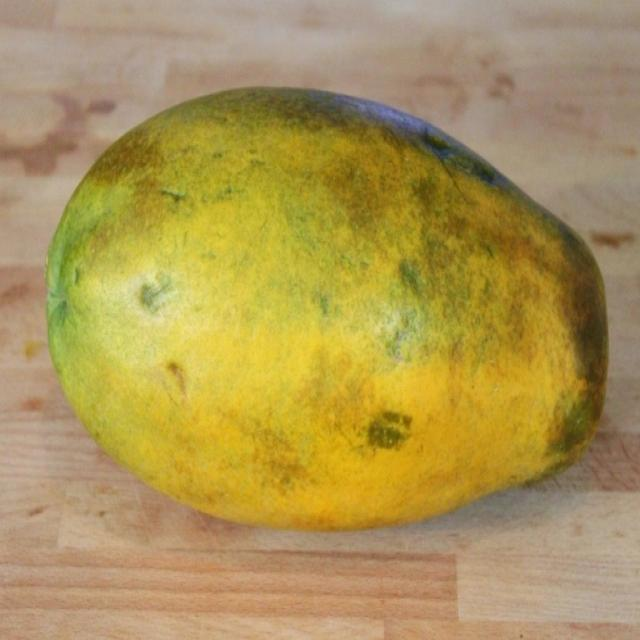Pepaya rippen: (39, 75, 615, 542)
